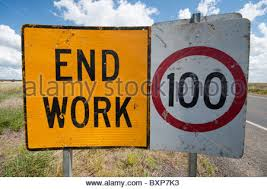Speed_limit_100km: (151, 46, 247, 131)
